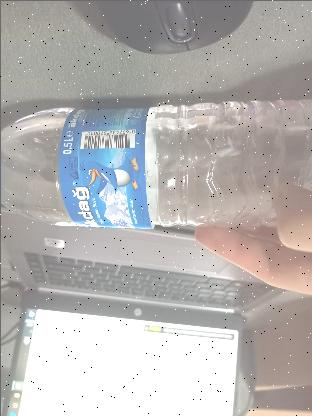Plastic Bottle: (0, 98, 312, 226)
